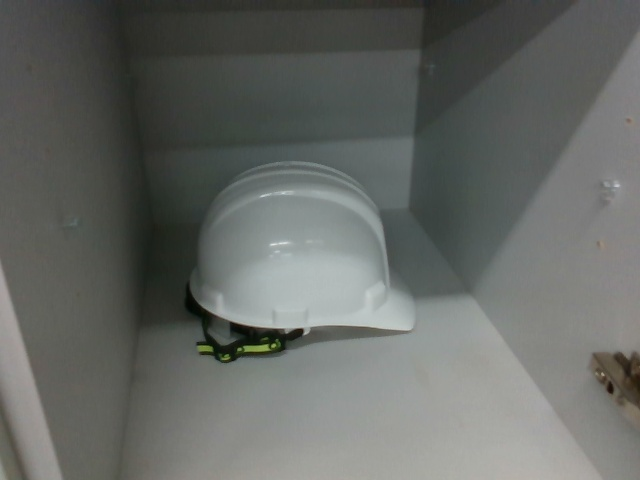helmet: (182, 155, 422, 368)
